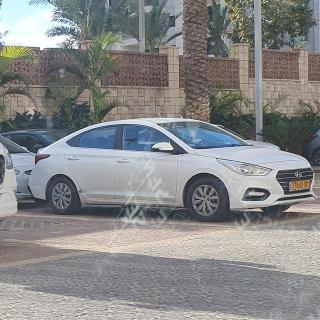LicensePlate: (290, 180, 310, 189)
